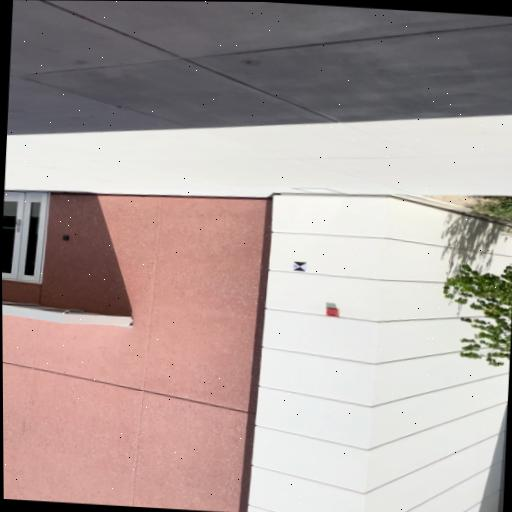target6: (292, 261, 307, 271)
